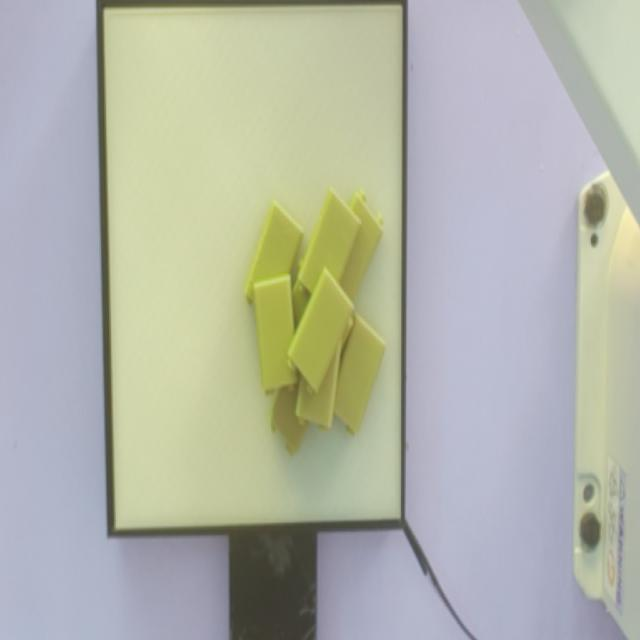bateria: (286, 265, 356, 400)
mesa: (96, 0, 408, 539)
